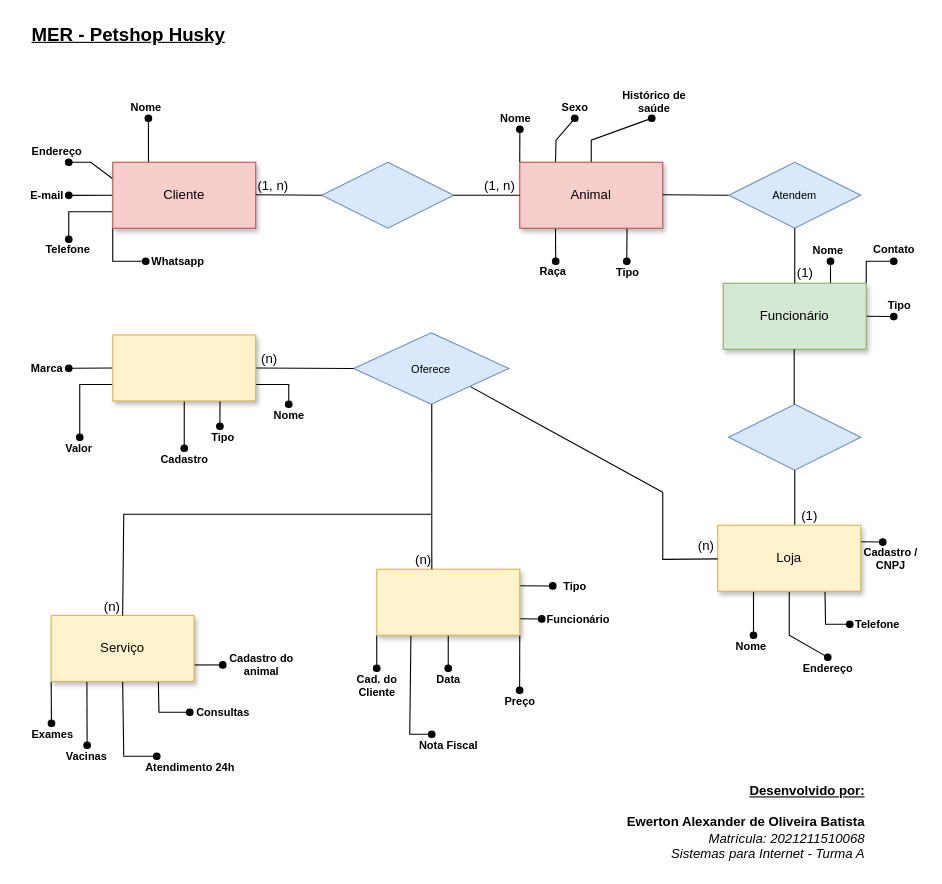
The diagram is 942 pixels wide and 884 high, and some of its shapes have lost their labels. Each missing label, with the centre of its shape:
"Alocado" goes at [794,436].
"Possuem / Levam" goes at [387,194].
"Produto" goes at [184,369].
"Vendas" goes at [448,603].
